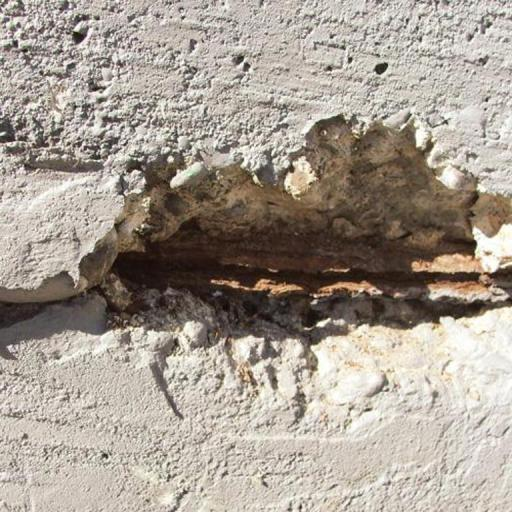spalling: (102, 117, 512, 377)
